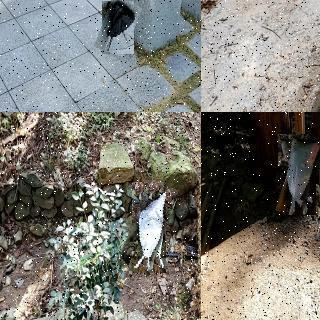Garbage: (125, 181, 173, 274), (271, 132, 320, 217), (97, 0, 138, 55)
